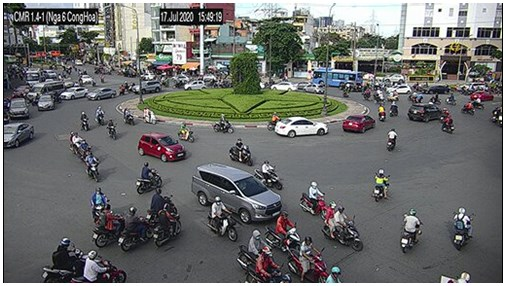xe_buyt: (312, 67, 363, 88)
xe_hoi: (190, 162, 283, 223), (138, 132, 186, 163), (273, 117, 329, 139), (4, 123, 34, 151), (343, 115, 376, 134), (408, 103, 441, 122), (9, 98, 28, 117), (35, 95, 55, 111), (132, 81, 161, 92), (60, 86, 86, 98), (86, 88, 116, 98), (271, 80, 296, 91), (471, 91, 495, 102), (388, 84, 411, 95), (422, 85, 450, 94), (184, 80, 208, 90), (303, 83, 323, 93), (12, 86, 29, 97), (42, 70, 56, 79)
xe_khach: (27, 82, 66, 99)
xe_may: (42, 237, 98, 283), (324, 201, 363, 252), (238, 229, 279, 277), (291, 236, 329, 283), (74, 251, 128, 284), (267, 211, 303, 255), (121, 207, 155, 251), (249, 247, 289, 284), (208, 195, 238, 243), (92, 204, 127, 245), (153, 202, 182, 251), (300, 181, 330, 219), (401, 208, 422, 256), (146, 187, 178, 216), (452, 207, 473, 250), (254, 160, 283, 190), (137, 161, 162, 194), (373, 168, 390, 203), (230, 138, 252, 165), (85, 150, 102, 183), (92, 187, 108, 221), (213, 113, 234, 135), (70, 129, 83, 156), (178, 123, 194, 144), (79, 138, 92, 163), (267, 111, 283, 131), (106, 117, 118, 142), (439, 115, 454, 133), (143, 105, 156, 125), (386, 127, 396, 153), (81, 109, 92, 132), (122, 106, 134, 126), (94, 106, 104, 128), (388, 87, 402, 102), (470, 97, 486, 110), (489, 107, 503, 121), (426, 90, 441, 103), (388, 100, 400, 116), (409, 92, 425, 104), (377, 104, 387, 123), (372, 87, 383, 102), (460, 102, 472, 115), (445, 92, 457, 105), (362, 88, 371, 102), (441, 107, 449, 121), (117, 83, 127, 94), (344, 84, 352, 97), (91, 75, 96, 87), (100, 73, 106, 82)
